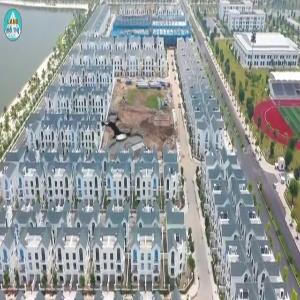drone: (89, 99, 146, 156)
